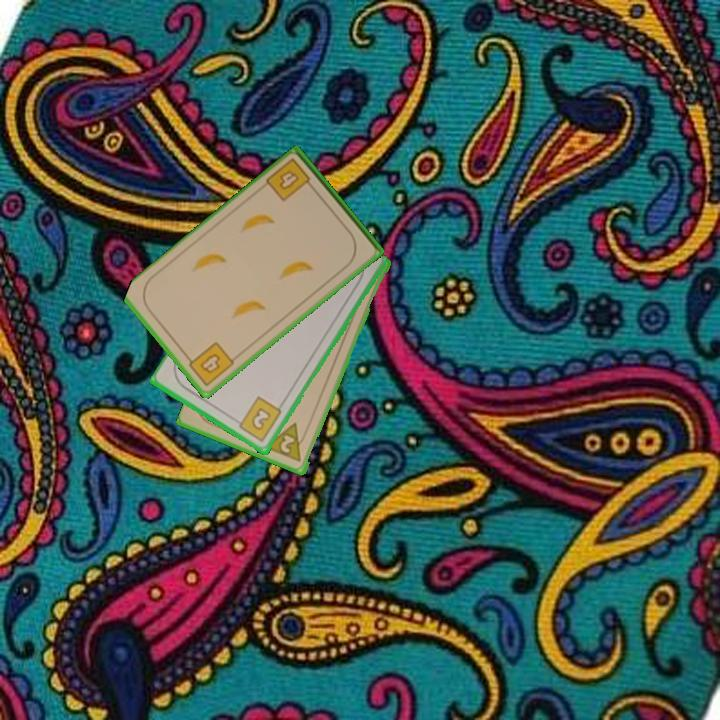2b: (231, 394, 285, 445)
2p: (263, 419, 310, 465)
4b: (182, 338, 237, 389), (263, 155, 318, 205)
